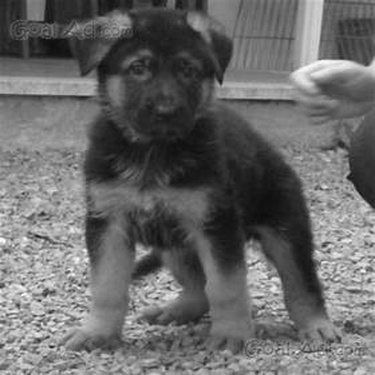dog: (44, 6, 348, 364)
